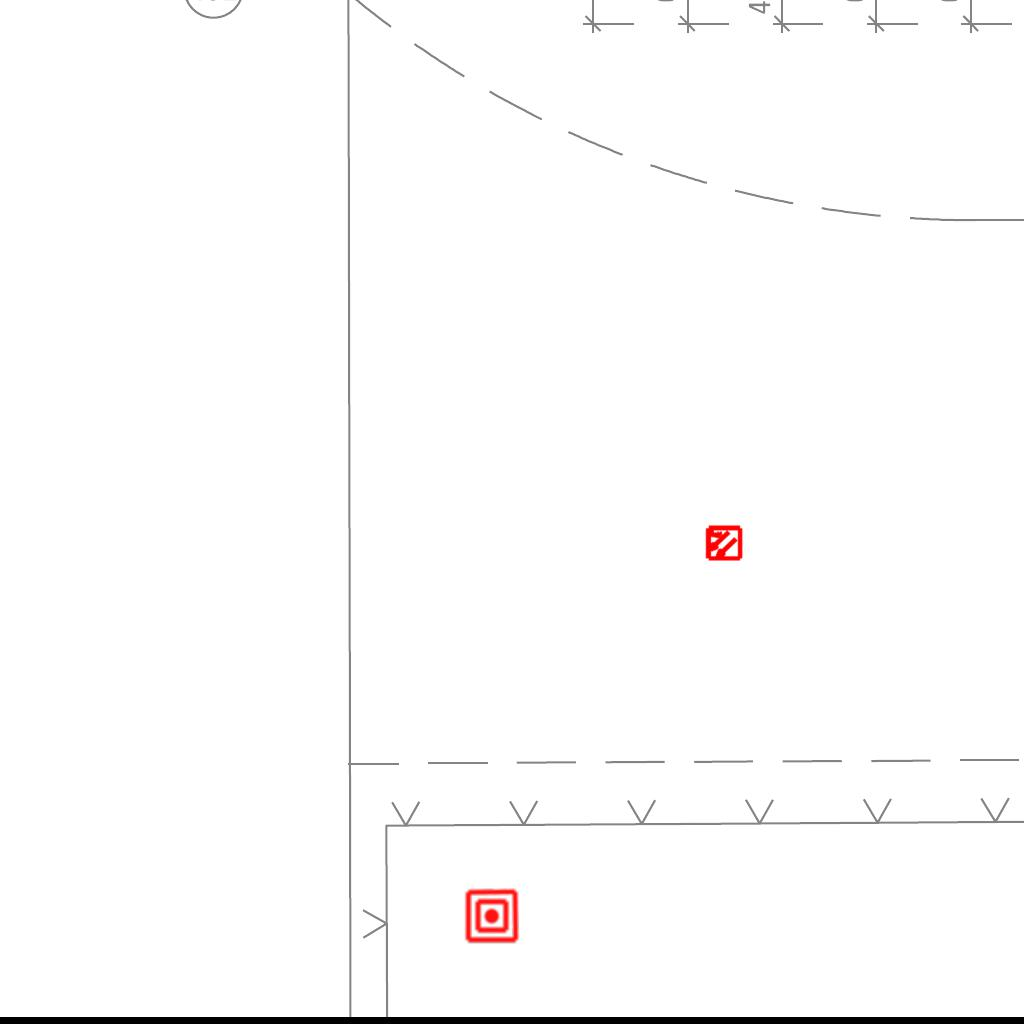NAM-Nichtautomatischer_Melder: (464, 888, 520, 944)
OT_Multisensormelder_(Kombination_RMO_WMD): (695, 515, 751, 571)
